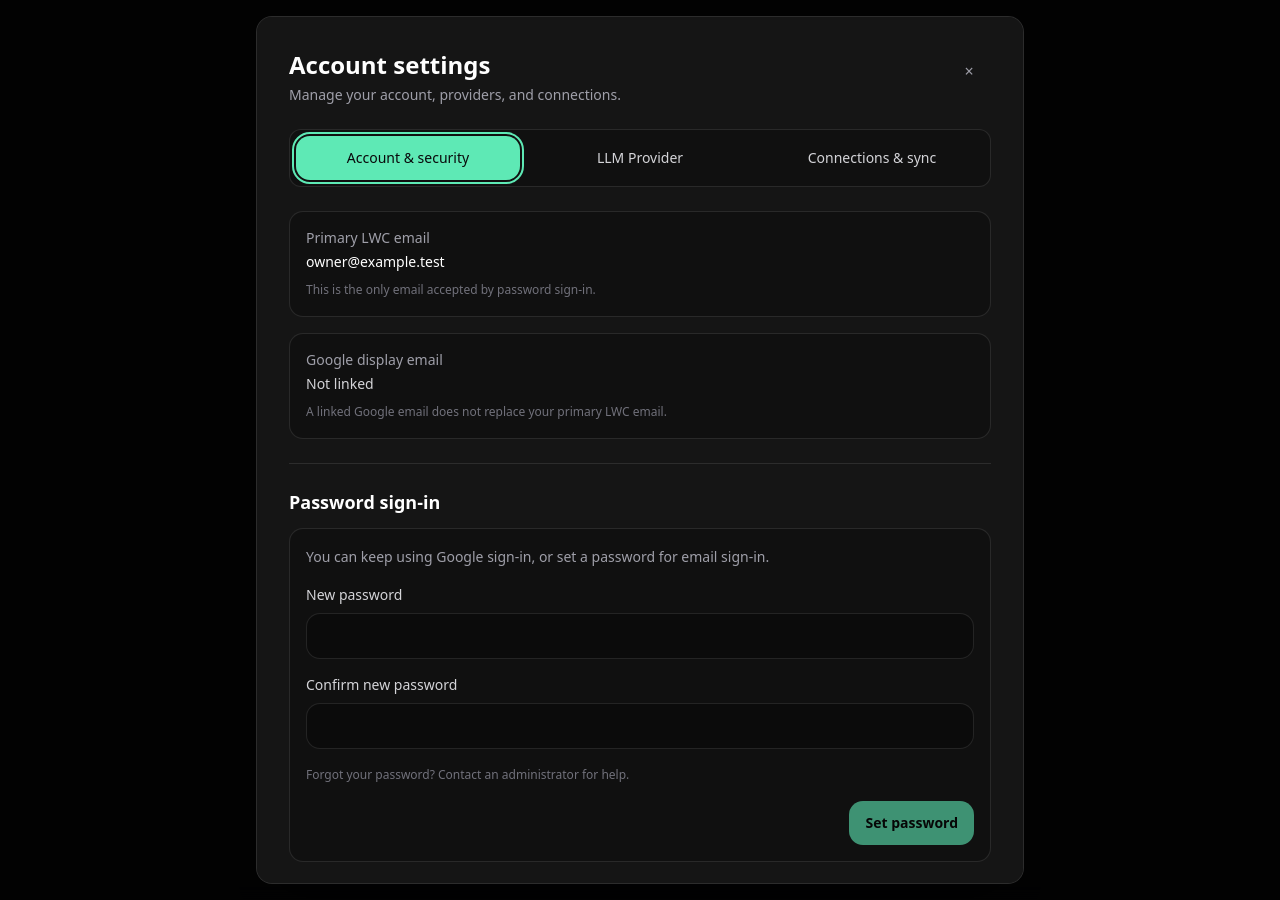
it: LWC-346 account self-service › lets a signed-in OAuth user optionally set an email password without an unknown old password
Expected: the field labelled "Current password" is not shown
In the password field labelled "New password": (640, 636) [306, 613, 974, 659], type "first-password-431"
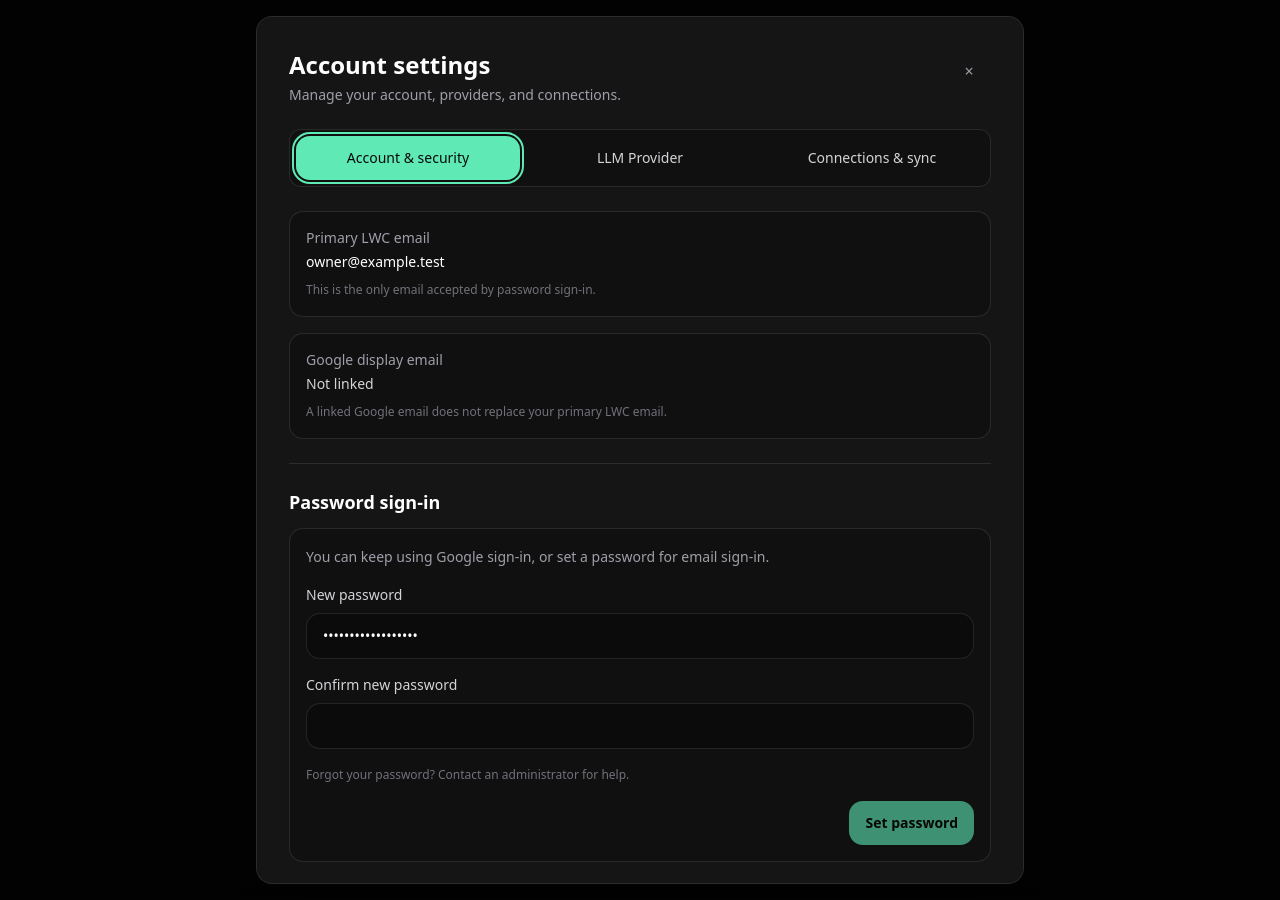
In the password field labelled "Confirm new password": (640, 726) [306, 703, 974, 749], type "first-password-431"
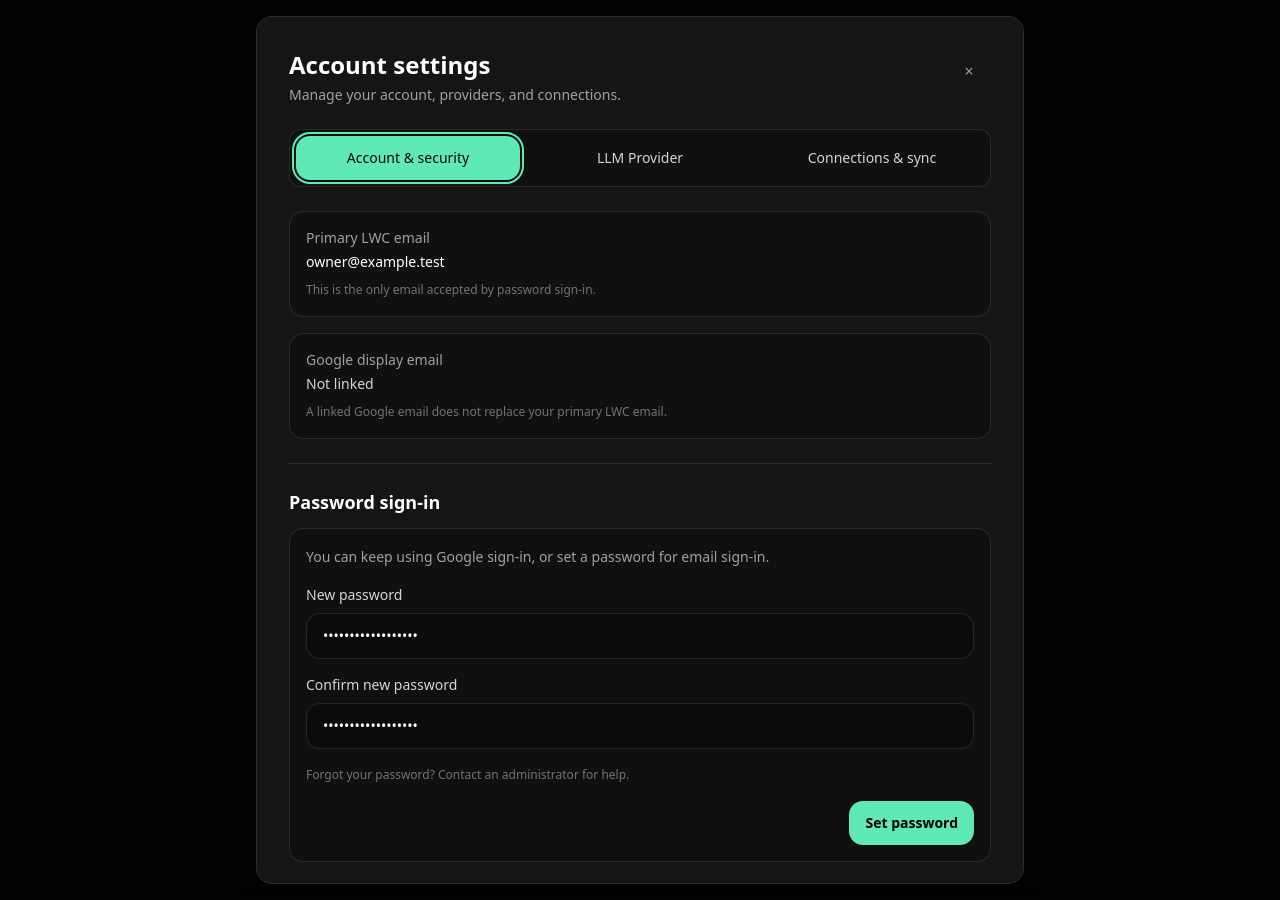
Click the button "Set password": (912, 823) [850, 801, 974, 845]
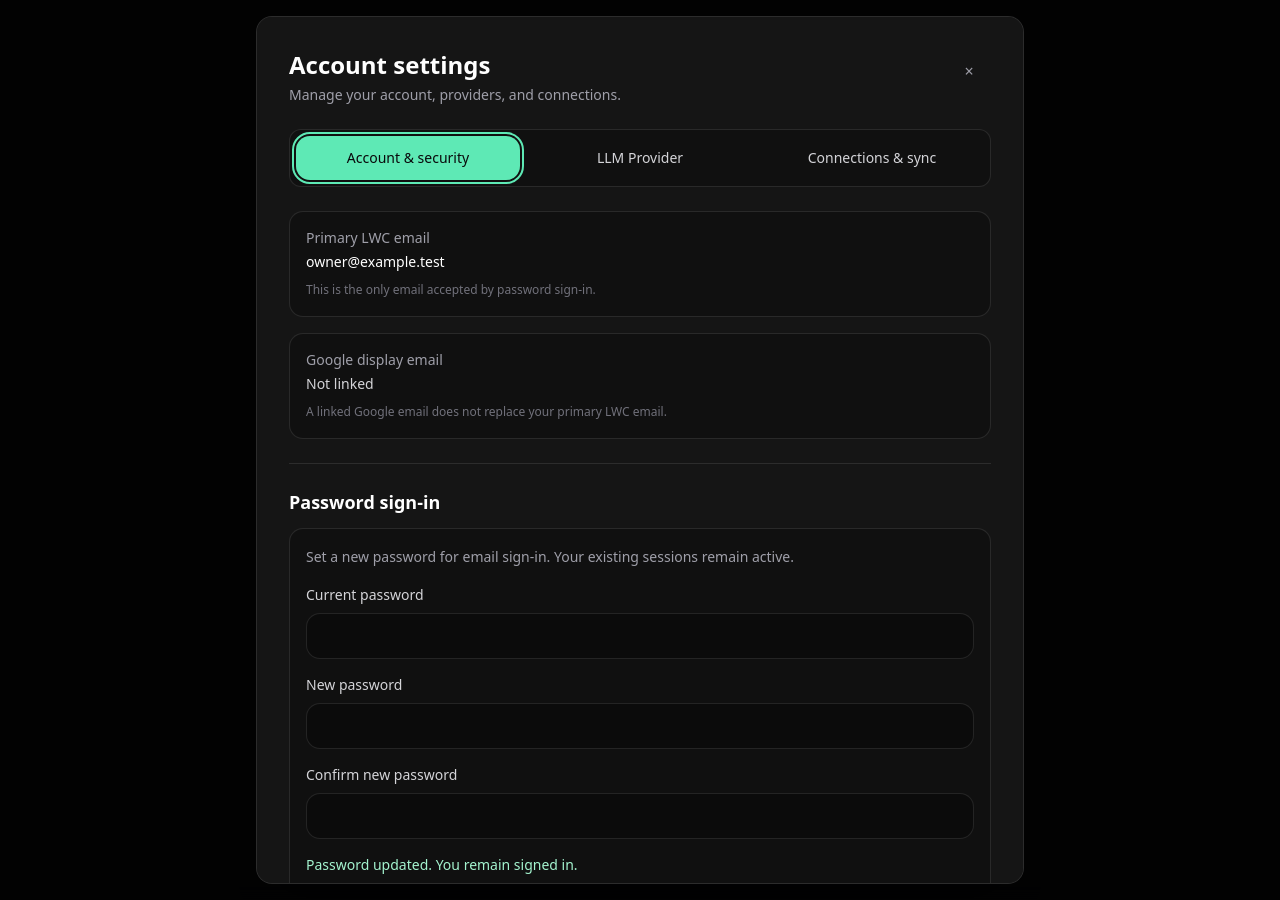
Now the text "Password updated. You remain signed in." is shown, box [306, 855, 578, 874]
Now the password field labelled "Current password" is shown, box [306, 613, 974, 659]
